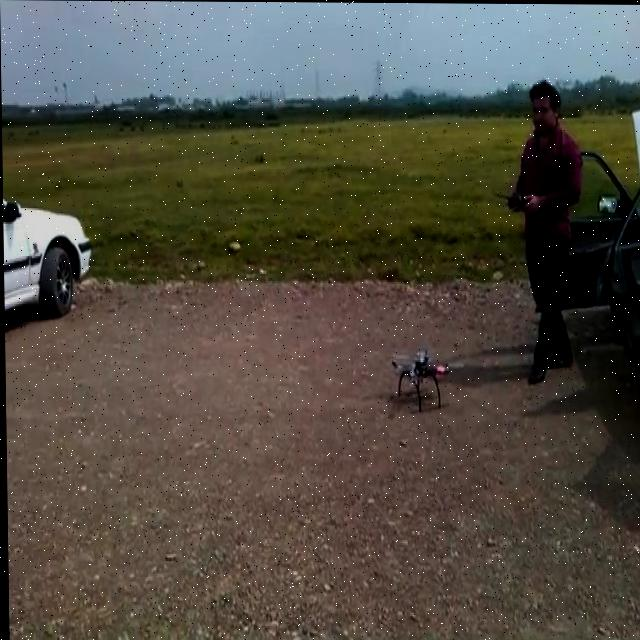drone: (385, 343, 463, 410)
